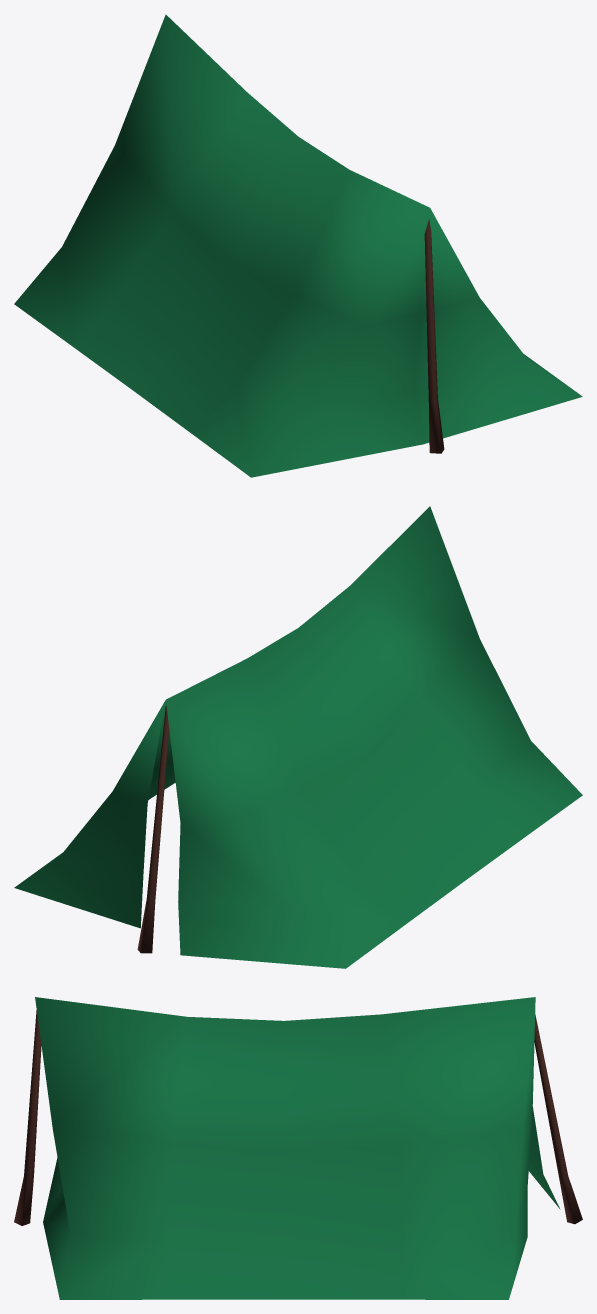
The model's file is Tent.fbx.
3 renders of one model, top to bottom at view 1: azimuth 30°, elevation 25°; view 2: azimuth 150°, elevation 25°; view 3: azimuth 270°, elevation 25°, orthographic. The views are drawn at different scales.
Visible parts, largest first — view 1: Plane.001; view 2: Plane.001; view 3: Plane.001.
Boxes of the visible parts, box(x1,y1,x2,y2) form: Plane.001: box(14, 14, 582, 477); Plane.001: box(14, 506, 582, 968); Plane.001: box(14, 997, 582, 1299).
Bounding box in the file's own units: 246 × 170 × 386.
